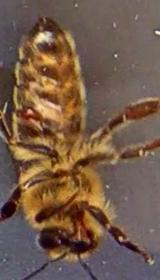varroa_mite: (18, 98, 52, 125)
